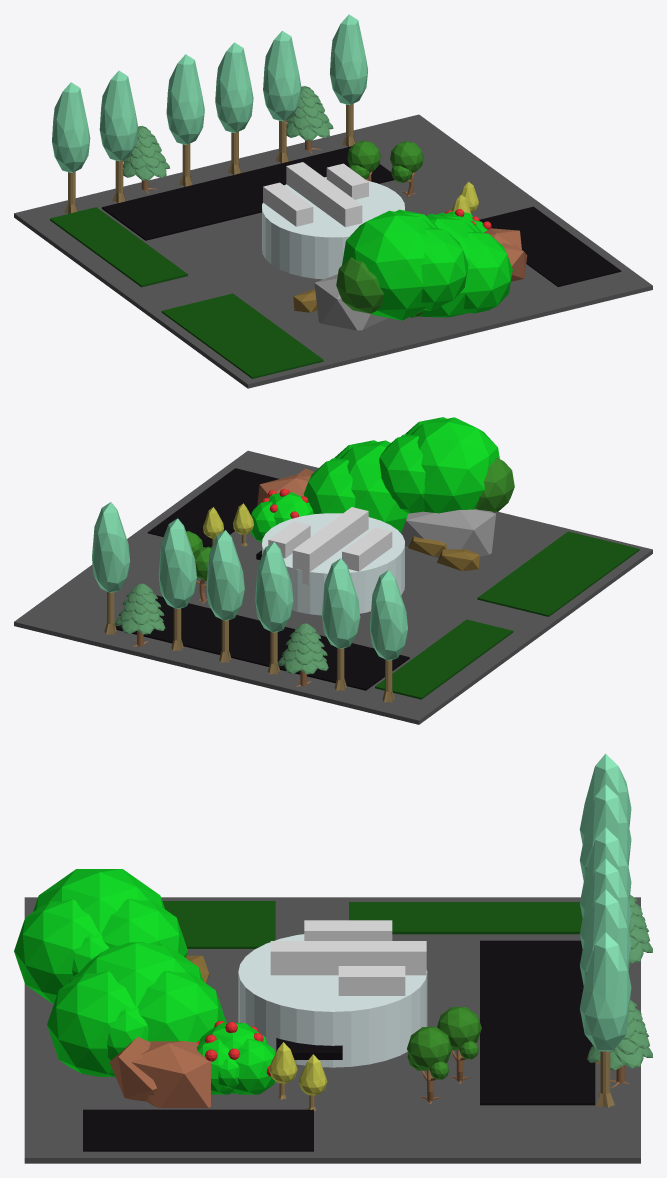
File: rndcenter.fbx
3 renders of one model, top to bottom at view 1: azimuth 30°, elevation 25°; view 2: azimuth 150°, elevation 25°; view 3: azimuth 270°, elevation 25°, orthographic. The views are drawn at different scales.
Visible parts, largest first — view 1: Cube, Icosphere.023, Cube.006, Cube.008, Cylinder, Cube.005, Icosphere.022, Cube.007, Icosphere.028, Icosphere.024, Icosphere.004, Icosphere.026 (+11 smaller); view 2: Cube, Icosphere.023, Cube.006, Cube.008, Icosphere.022, Cylinder, Cube.007, Cube.005, Icosphere.005, Icosphere.025, Icosphere.028, Icosphere.024 (+14 smaller); view 3: Cube, Cube.006, Icosphere.022, Cylinder, Icosphere.023, Cube.005, Cube.007, Icosphere.007, Cube.002, Cube.008, Icosphere.027, Icosphere.011 (+15 smaller).
Boxes of the visible parts, box(x1,y1,x2,y2) form: Cube: box(14, 114, 652, 388); Icosphere.023: box(336, 209, 468, 320); Cube.006: box(102, 146, 394, 240); Cube.008: box(161, 293, 323, 378); Cylinder: box(262, 177, 404, 279); Cube.005: box(479, 206, 621, 286); Icosphere.022: box(410, 212, 512, 317); Cube.007: box(50, 207, 187, 287); Icosphere.028: box(215, 42, 253, 132); Icosphere.024: box(99, 70, 137, 161); Icosphere.004: box(52, 82, 90, 172); Icosphere.026: box(263, 30, 301, 121); Cube: box(14, 450, 652, 724); Icosphere.023: box(379, 417, 514, 513); Cube.006: box(115, 595, 409, 690); Cube.008: box(477, 531, 639, 616); Icosphere.022: box(303, 440, 408, 532); Cylinder: box(262, 513, 404, 615); Cube.007: box(375, 619, 513, 699); Cube.005: box(147, 468, 278, 547); Icosphere.005: box(401, 509, 495, 557); Icosphere.025: box(255, 542, 293, 632); Icosphere.028: box(206, 530, 244, 620); Icosphere.024: box(322, 558, 360, 648); Cube: box(24, 897, 640, 1163); Cube.006: box(480, 940, 595, 1105); Icosphere.022: box(47, 942, 226, 1076); Cylinder: box(238, 934, 427, 1067); Icosphere.023: box(14, 869, 187, 1004); Cube.005: box(83, 1109, 313, 1151); Cube.007: box(349, 902, 582, 934); Icosphere.007: box(109, 1037, 210, 1107); Cube.002: box(270, 941, 426, 975); Cube.008: box(36, 901, 275, 948); Icosphere.027: box(579, 932, 631, 1051); Icosphere.011: box(196, 1023, 275, 1094).
Bounding box in the file's own units: 2000 × 736 × 2073.
